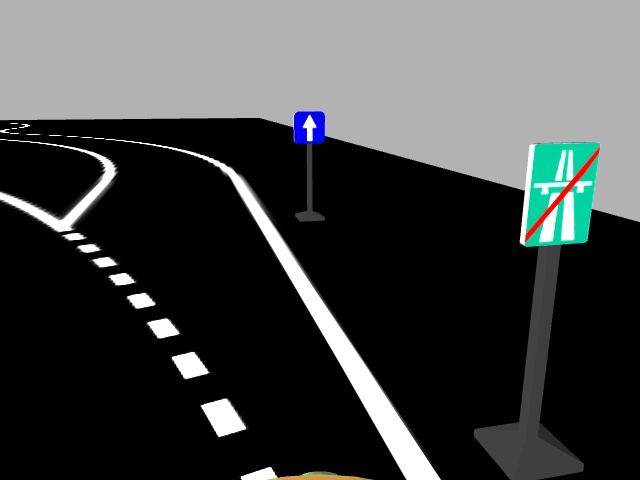HighwayExit: (528, 143, 600, 241)
OneWay: (291, 110, 326, 144)
